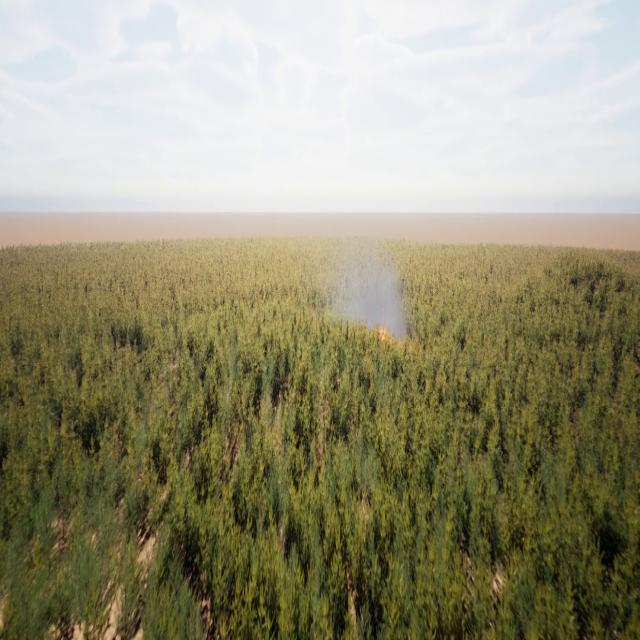fire: (379, 315, 393, 341)
smoke: (327, 236, 409, 349)
